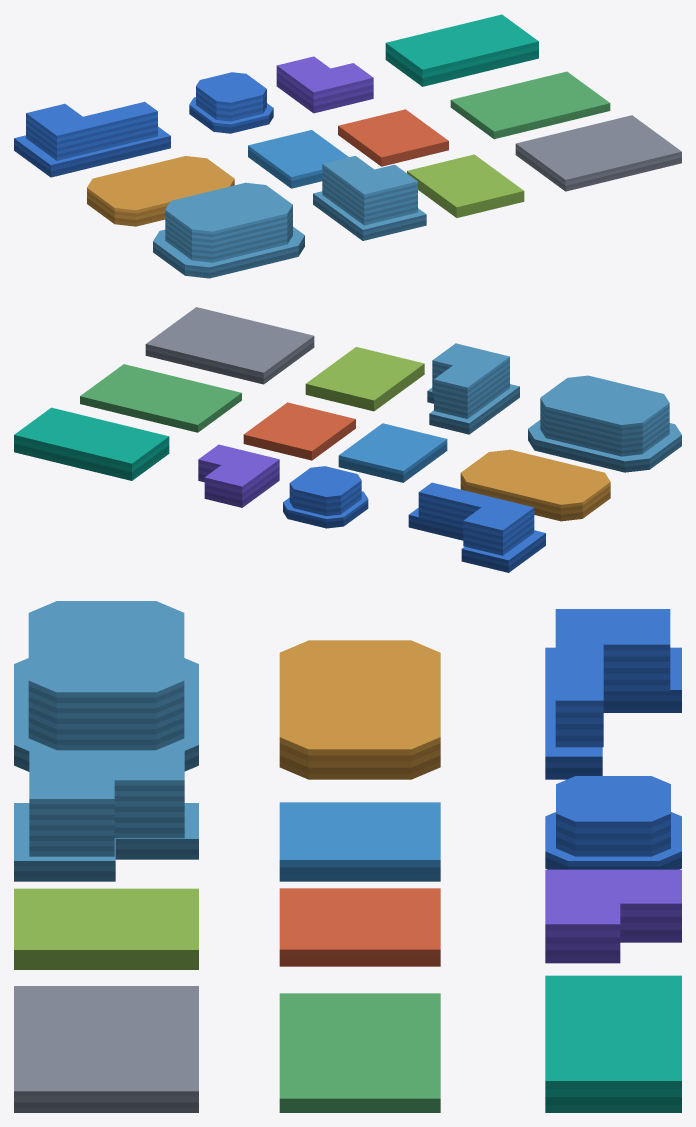
Rendered from shell.glb.
3 renders of one model, top to bottom at view 1: azimuth 30°, elevation 25°; view 2: azimuth 150°, elevation 25°; view 3: azimuth 270°, elevation 25°, orthographic. The views are drawn at different scales.
Visible parts, largest first — view 1: shell; view 2: shell; view 3: shell.
Boxes of the visible parts, x1=… form: shell: x1=14, y1=14, x2=681, y2=278; shell: x1=14, y1=307, x2=681, y2=572; shell: x1=14, y1=601, x2=681, y2=1112.
Size of the model in its own units: 650 by 53.8 by 415.
